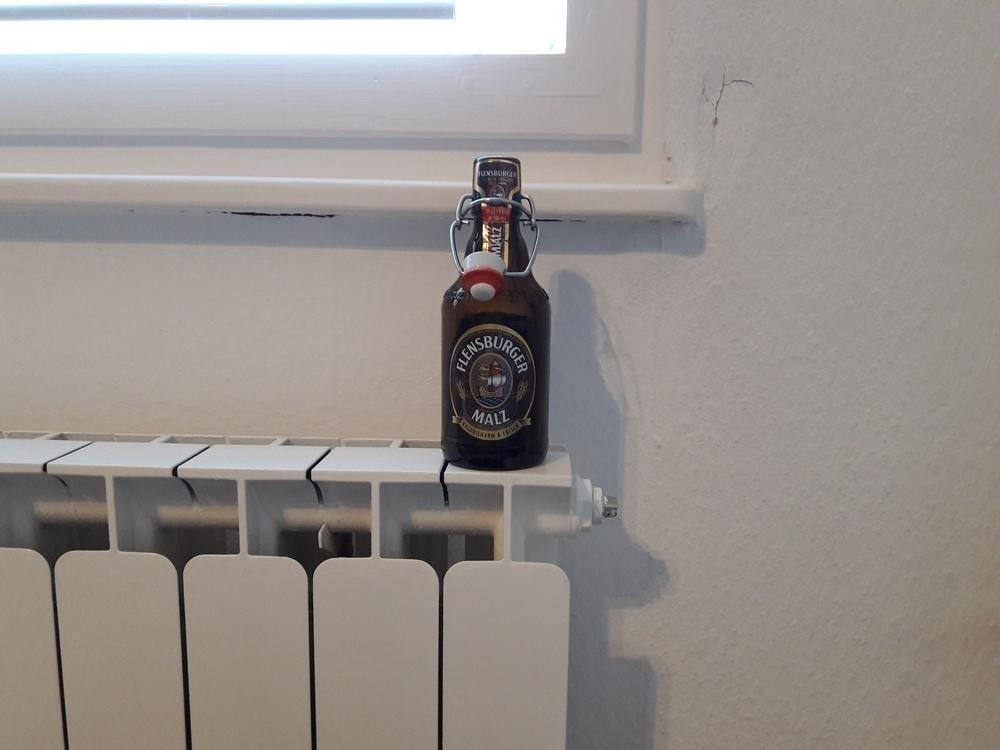bottle-glass: (439, 154, 552, 472)
